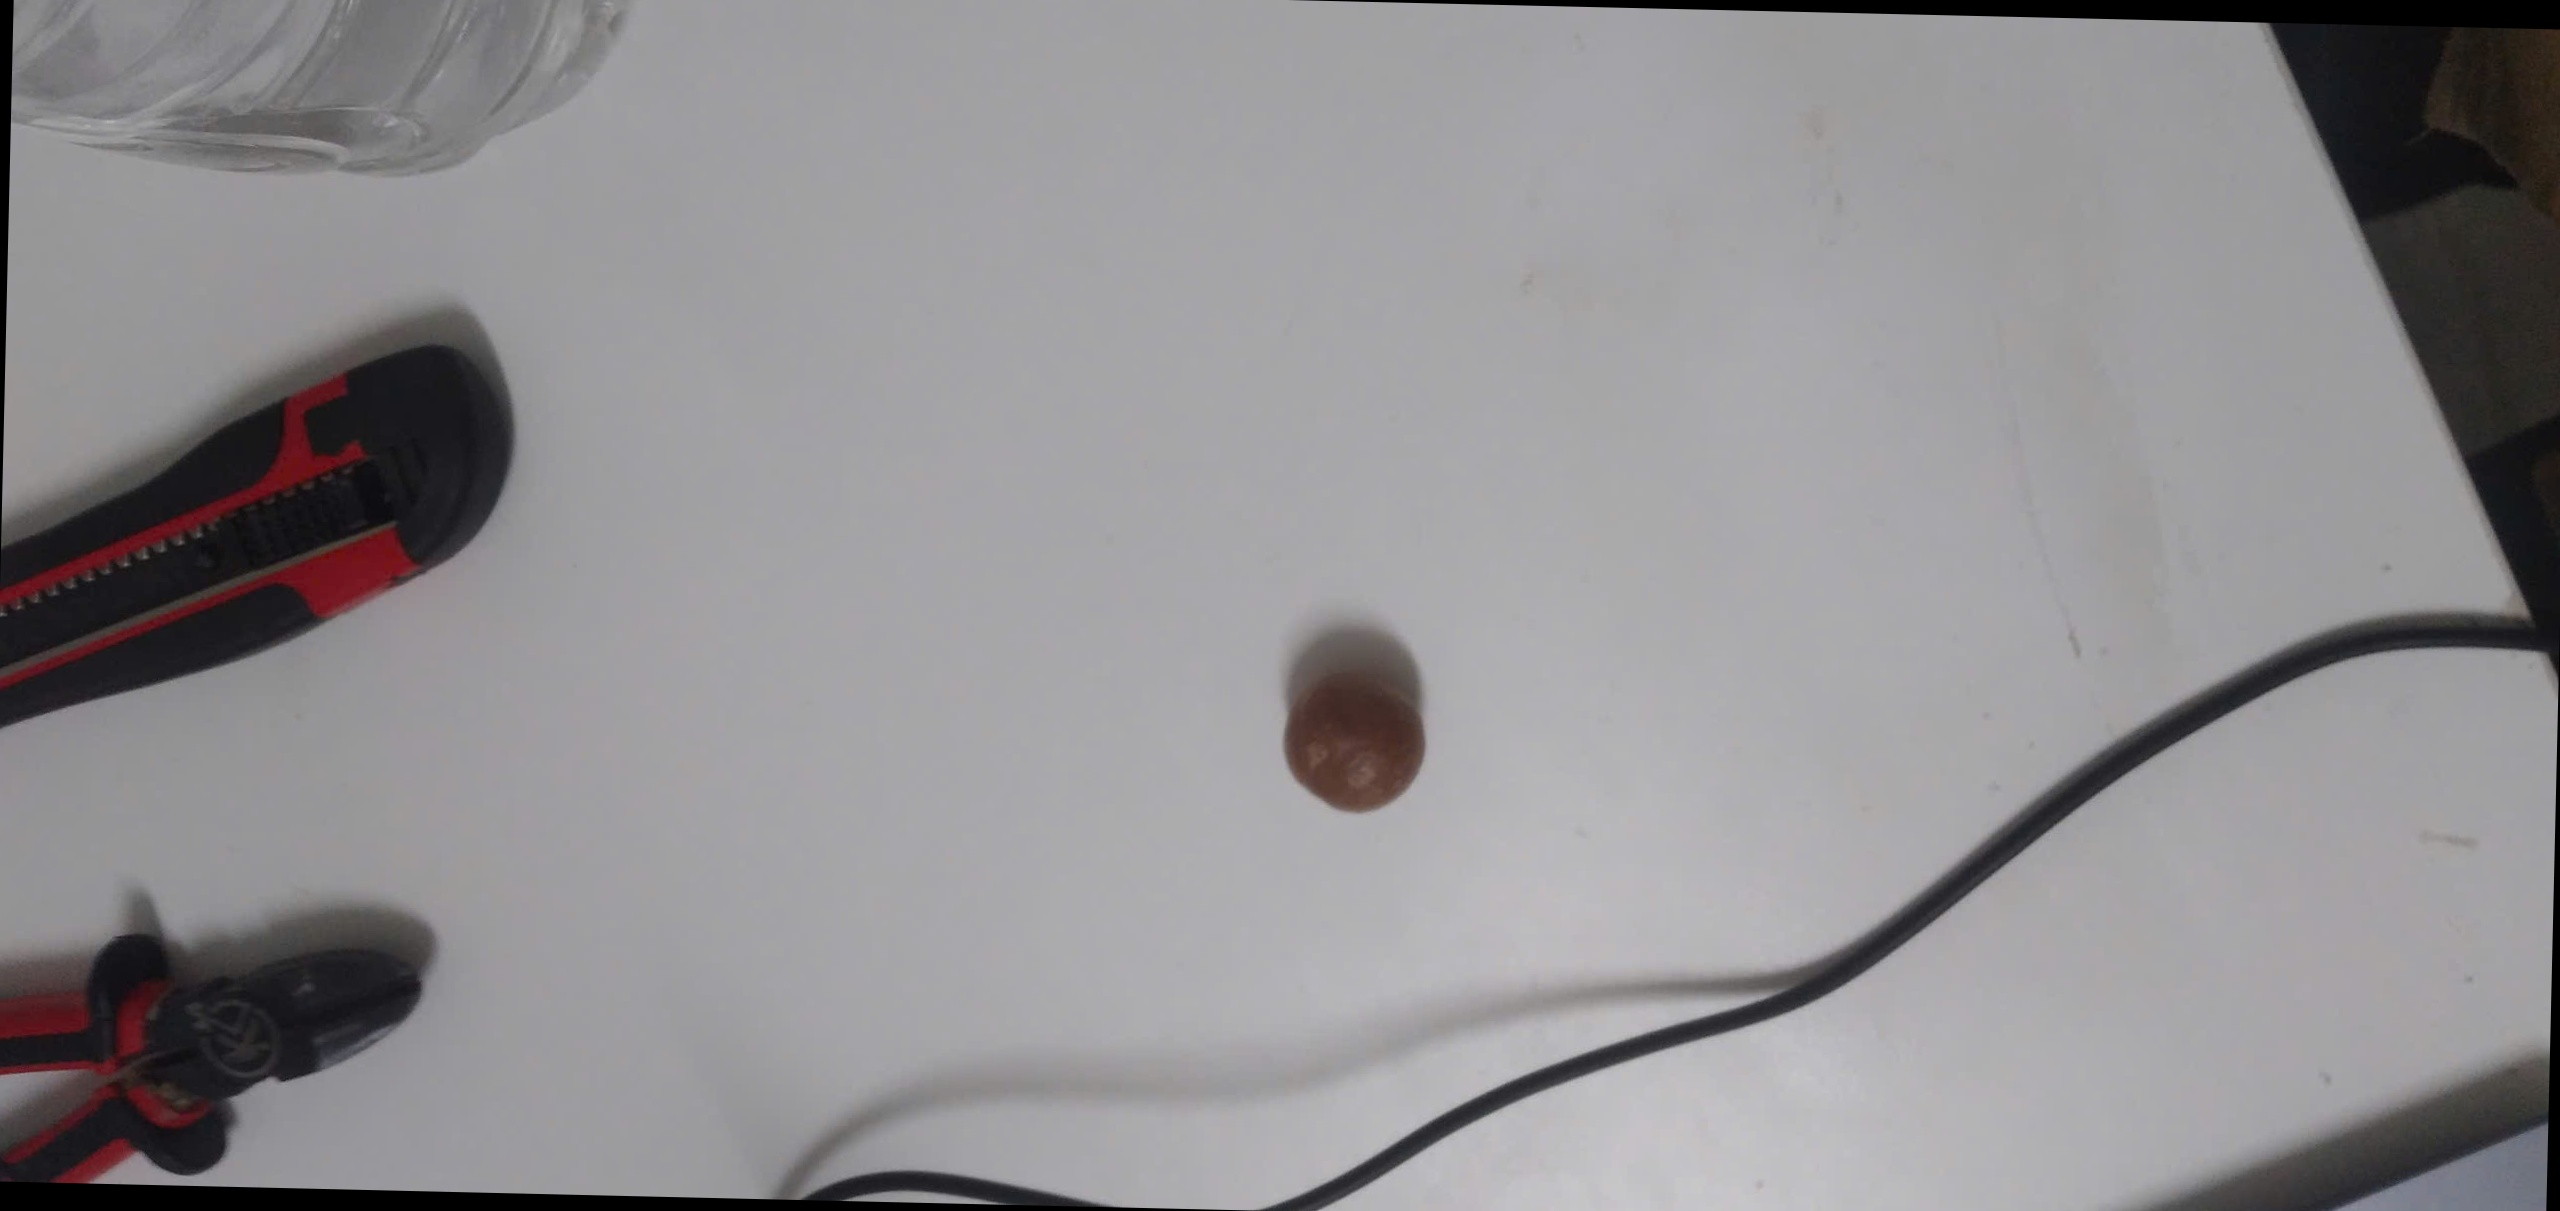mac: (1283, 671, 1429, 813)
